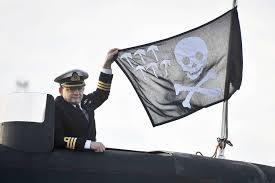Jolly Roger Flag: (114, 9, 244, 130)
